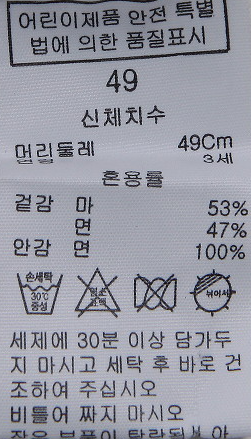KR_flat_dry_in_shade: (192, 270, 235, 318)
KR_hand_wash_30_neutral: (14, 267, 65, 319)
KR_no_chlorine_bleach: (73, 266, 123, 320)
KR_no_wring: (132, 273, 180, 315)
